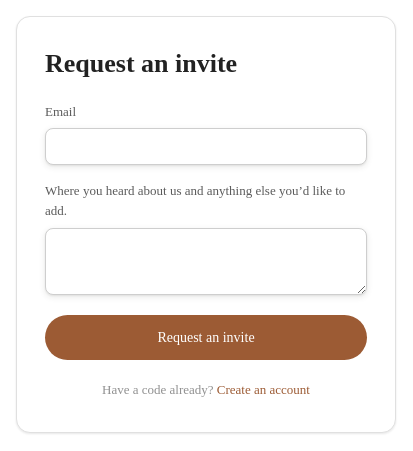
Test: RequestInvitePage › carries the optional note when there is one
In the text box labelled "Where you heard about us": (206,261) [45,228,367,294], type "I read a lot of physics"
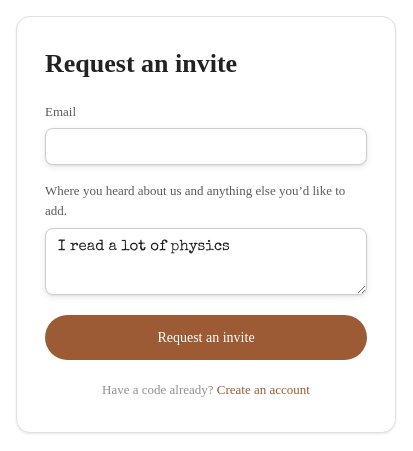
In the field labelled "Email": (206,147) [45,128,367,165], type "sam@example.com"
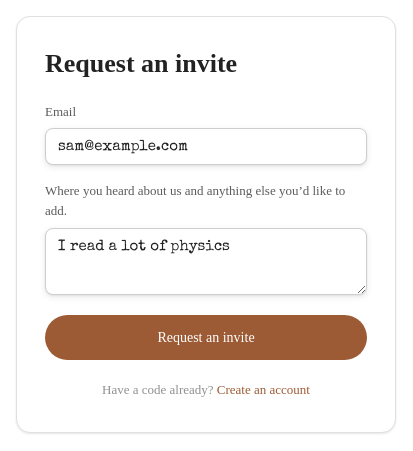
Click the button "Request an invite": (206,337) [45,314,367,360]
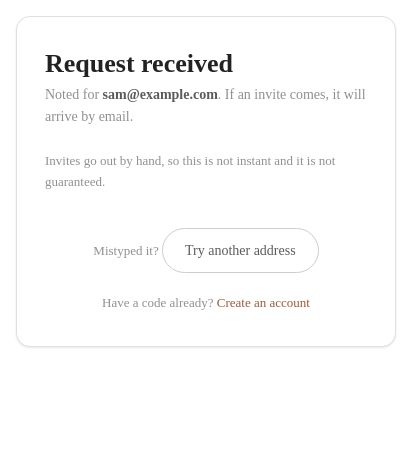
expect the heading "Request received" is shown: met, box [45,49,233,78]
